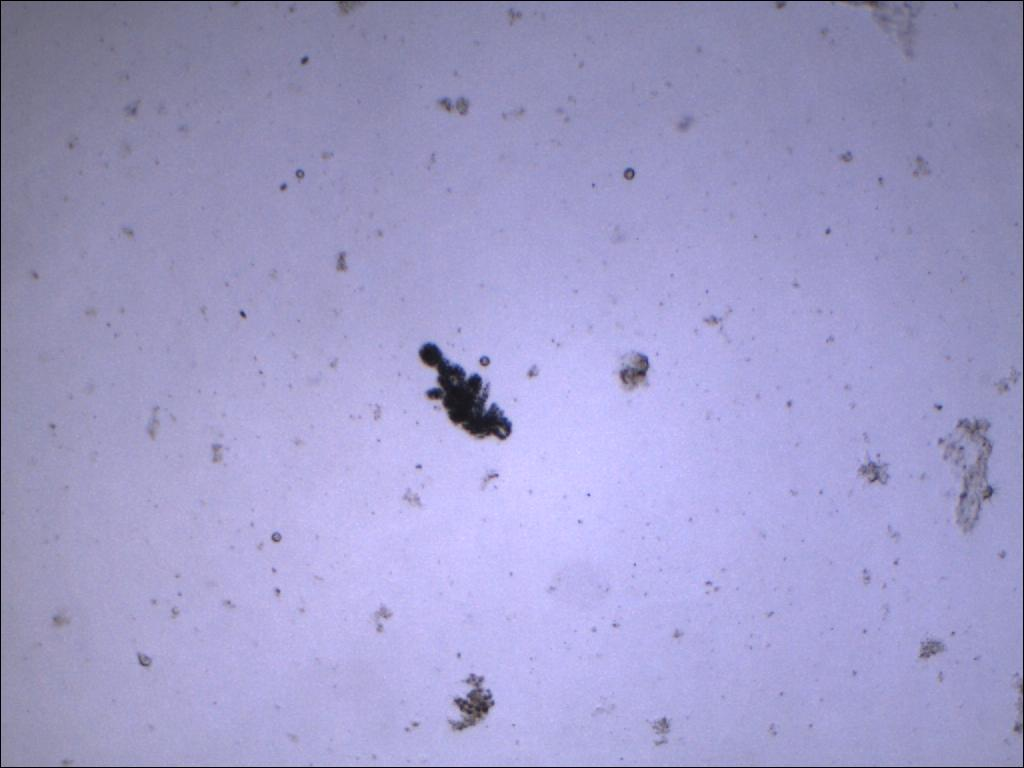amoeba: (413, 335, 518, 447)
